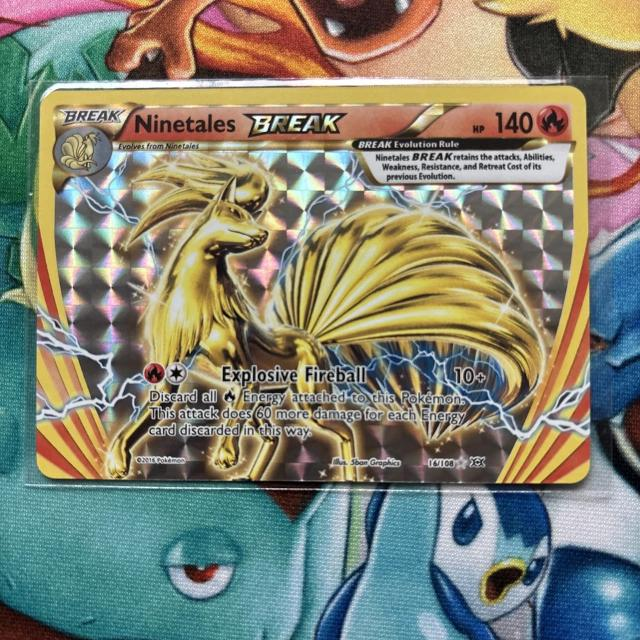Card: (33, 81, 595, 490)
Name: (126, 107, 351, 139)
